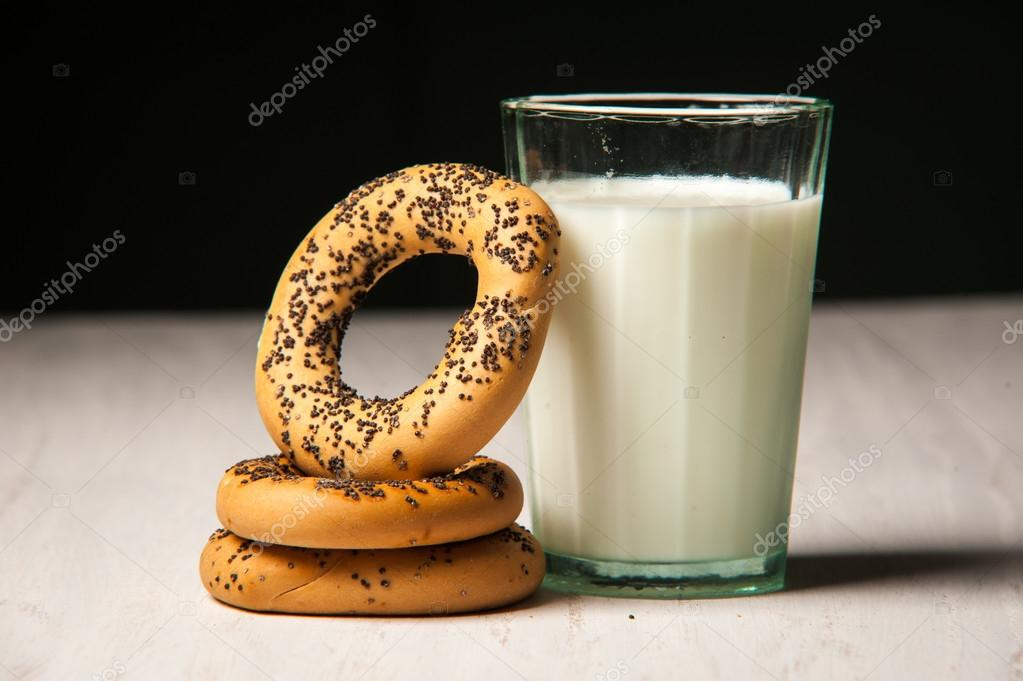glass of milk: (542, 96, 791, 576)
